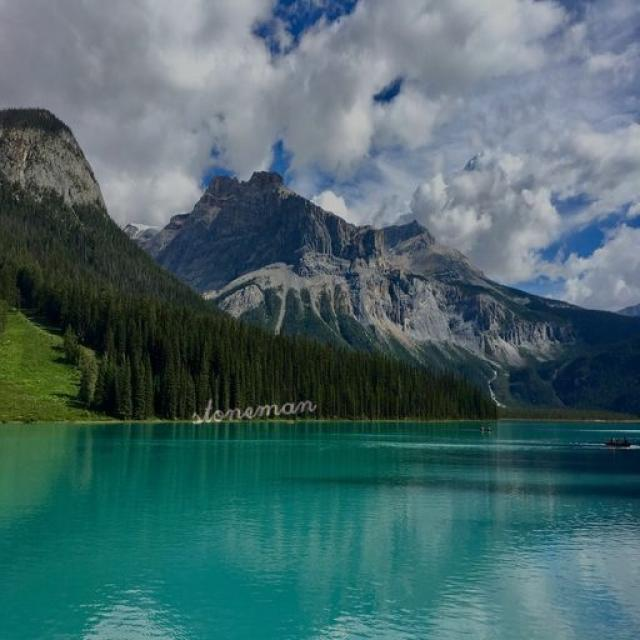watermark: (184, 386, 316, 428)
